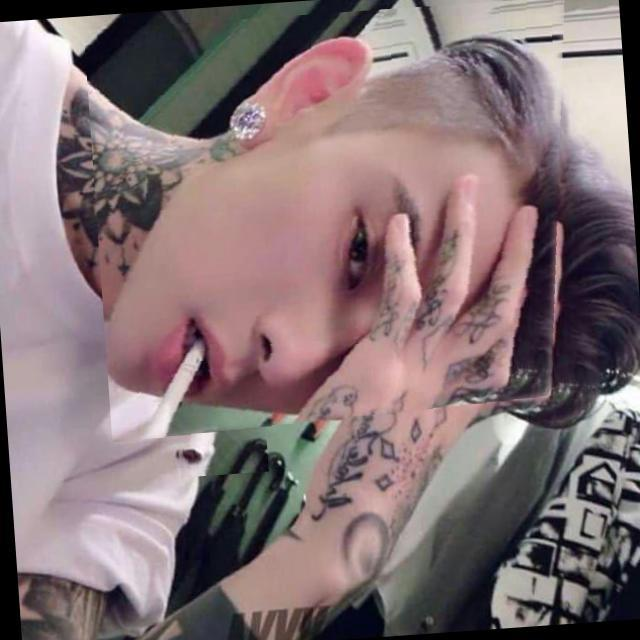cigarette: (162, 314, 268, 478)
